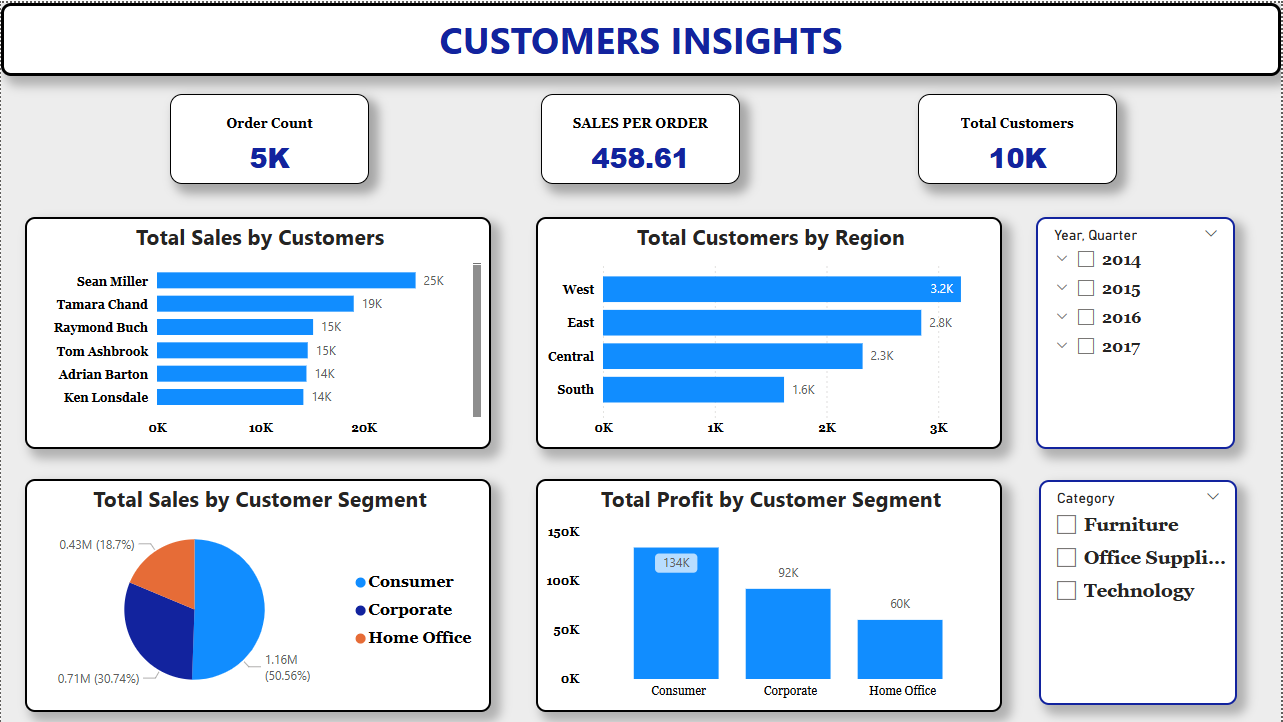

Layout of this report page (visuals, bound fields, positions):
{"tool":"powerbi","page":{"name":"Customer Insight","canvas":[1280,720],"ordinal":1},"visuals":[{"type":"barChart","title":"Total Sales by Customers","fields":{"Category":["Customers.Customer Name"],"Y":["Orders.TOTAL SALES"]},"box":[23.8,213.8,466.2,232.5],"z":0},{"type":"pieChart","title":"Total Sales by Customer Segment","fields":{"Category":["Customers.Customer Segment"],"Y":["Orders.TOTAL SALES"]},"box":[23.8,476.2,466.2,232.5],"z":1000},{"type":"lineClusteredColumnComboChart","title":"Total Profit by Customer Segment","fields":{"Category":["Customers.Customer Segment"],"Y":["Orders.TOTAL PROFIT"]},"box":[535,476.2,466.2,232.5],"z":2000},{"type":"cardVisual","fields":{"Data":["Orders.Order Count"]},"box":[169,91,199,90],"z":3000},{"type":"clusteredBarChart","title":"Total Customers by Region","fields":{"Category":["States.Region"],"Y":["Customers.Total Customers"]},"box":[535,213.8,466.2,232.5],"z":4000},{"type":"cardVisual","fields":{"Data":["Orders.AVERAGE SALES PER ORDER"]},"box":[540,91,199,90],"z":5000},{"type":"textbox","box":[0,0,1280,73],"z":6000},{"type":"slicer","fields":{"Values":["Orders.Order Date.Variation.Date Hierarchy.Year","Orders.Order Date.Variation.Date Hierarchy.Quarter"]},"box":[1035,213.8,198.8,232.5],"z":7000},{"type":"slicer","fields":{"Values":["Products.Category"]},"box":[1037.8,476.7,197.8,225.6],"z":8000},{"type":"cardVisual","fields":{"Data":["Customers.Total Customers"]},"box":[917,91,199,90],"z":9000}]}

Visuals, with their boxes in screenshot pixels (x1, y1, x2, y2), scaled from the page's 1280x720 canvas onto the 1283x722 screenshot:
"Total Sales by Customers" barChart: box=[24, 214, 491, 448]
"Total Sales by Customer Segment" pieChart: box=[24, 478, 491, 711]
"Total Profit by Customer Segment" lineClusteredColumnComboChart: box=[536, 478, 1004, 711]
cardVisual - Orders.Order Count: box=[169, 91, 369, 182]
"Total Customers by Region" clusteredBarChart: box=[536, 214, 1004, 448]
cardVisual - Orders.AVERAGE SALES PER ORDER: box=[541, 91, 741, 182]
textbox: box=[0, 0, 1282, 73]
slicer - Orders.Order Date.Variation.Date Hierarchy.Year x Orders.Order Date.Variation.Date Hierarchy.Quarter: box=[1037, 214, 1237, 448]
slicer - Products.Category: box=[1040, 478, 1238, 704]
cardVisual - Customers.Total Customers: box=[919, 91, 1119, 182]
